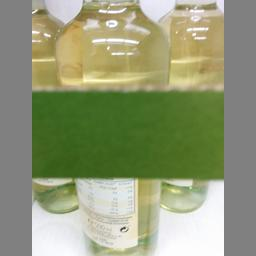vinegar: (56, 0, 170, 255)
